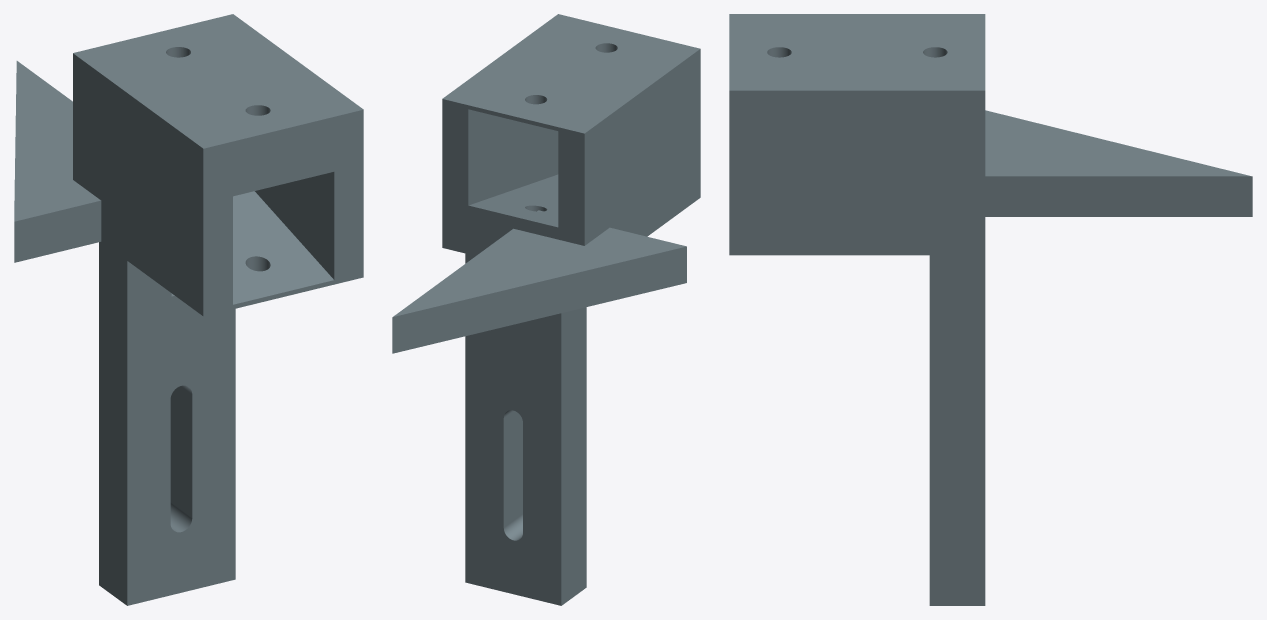
The model's file is est_soporte_cabezal.glb.
The picture shows the model from 3 angles, left to right: view 1: azimuth 30°, elevation 25°; view 2: azimuth 150°, elevation 25°; view 3: azimuth 270°, elevation 25°; orthographic projection. The views are drawn at different scales.
Parts seen in each view (by area): view 1: world; view 2: world; view 3: world.
Part boxes in pixels (x1,y1,x2,y2): world: (14, 14, 363, 605); world: (392, 14, 700, 605); world: (729, 14, 1252, 605).
Bounding box in the file's own units: 50.3 × 105 × 94.
